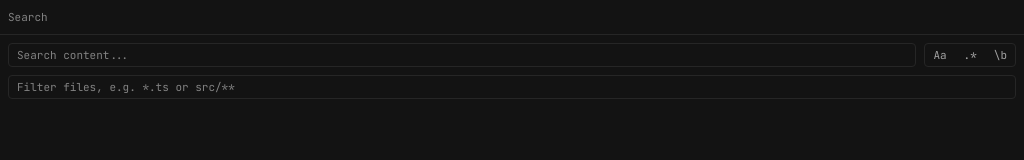
Test case: SearchPanel › Clear-search button › is absent when the query is empty, appears once text is typed, and clears+refocuses on click
Type "test" into the field with placeholder "Search content..." at (462, 55), box [8,43,916,67]
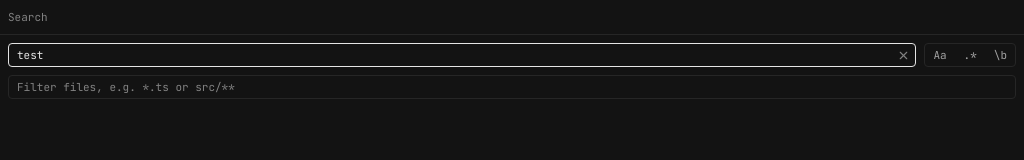
Expected: the button named "Clear search" is shown
Click the button named "Clear search" at (903, 55), box [895,47,911,63]
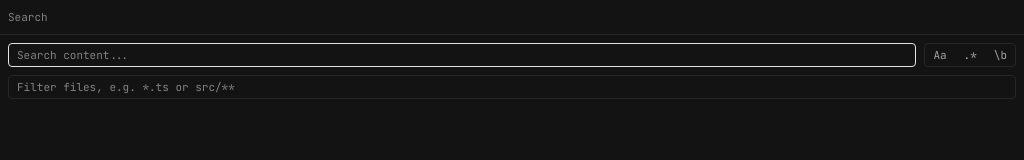
Expected: the field with placeholder "Search content..." is empty, [8,43,916,67]
